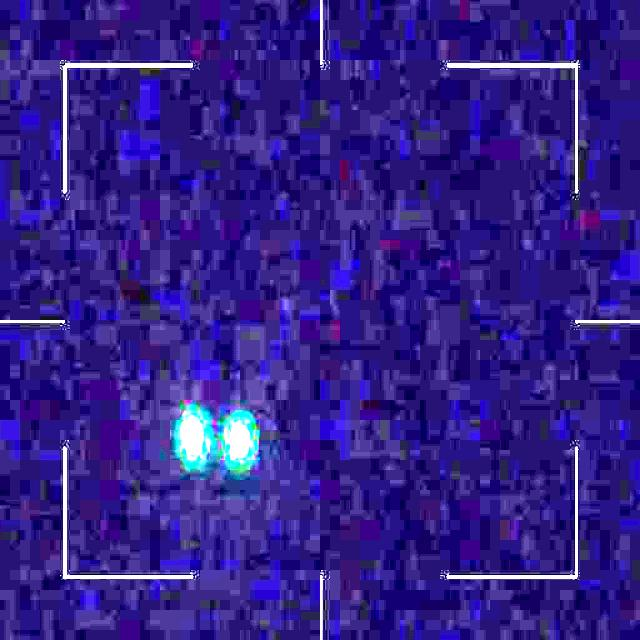bird: (182, 414, 254, 466)
